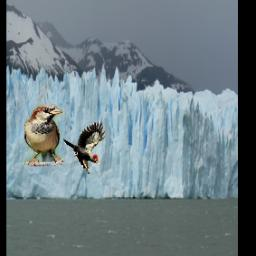Sparrow: (24, 104, 62, 166)
Woodpecker: (63, 121, 107, 175)
